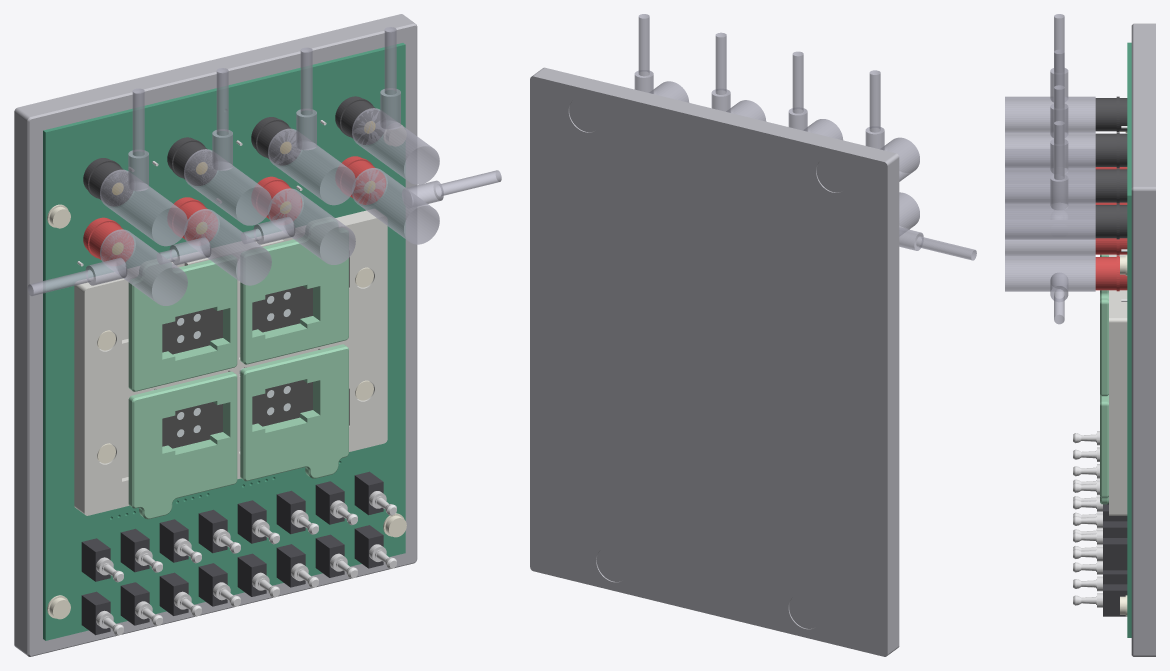
Rendered from s4cell.glb.
3 views of the same model, side by side, from view 1: azimuth 30°, elevation 25°; view 2: azimuth 150°, elevation 25°; view 3: azimuth 270°, elevation 25° (orthographic). The views are drawn at different scales.
Visible parts, largest first — view 1: n001, n002, n000, n013, n028, n043, n058, n121, n139, n127, n115, n133 (+39 smaller); view 2: n002, n104, n134, n128, n140, n146, n127, n103; view 3: n002, n000, n121, n145, n139, n115, n001, n127, n133, n109, n103, n146 (+16 smaller).
Part boxes in pixels (box(x1,y1,x2,y2)): n001: box(43, 43, 405, 640); n002: box(14, 14, 417, 656); n000: box(74, 209, 387, 515); n013: box(128, 371, 237, 519); n028: box(240, 344, 348, 481); n043: box(128, 255, 237, 391); n058: box(240, 217, 348, 364); n121: box(352, 168, 439, 244); n139: box(268, 128, 355, 205); n127: box(100, 169, 187, 246); n115: box(268, 188, 355, 264); n133: box(184, 149, 271, 225); n002: box(530, 67, 899, 656); n104: box(899, 227, 976, 260); n134: box(788, 51, 807, 131); n128: box(865, 70, 884, 150); n140: box(711, 32, 730, 112); n146: box(634, 14, 653, 93); n127: box(882, 137, 919, 181); n103: box(899, 192, 919, 235); n002: box(1131, 23, 1155, 656); n000: box(1109, 254, 1127, 515); n121: box(1005, 255, 1095, 291); n145: box(1005, 203, 1095, 239); n139: box(1005, 168, 1095, 203); n115: box(1005, 220, 1095, 255); n001: box(1127, 42, 1131, 637); n127: box(1005, 96, 1095, 132); n133: box(1005, 132, 1095, 167); n109: box(1005, 185, 1094, 219); n103: box(1005, 149, 1094, 183); n146: box(1050, 121, 1068, 210).
Size of the model in its own units: 156 by 185 by 50.01.
